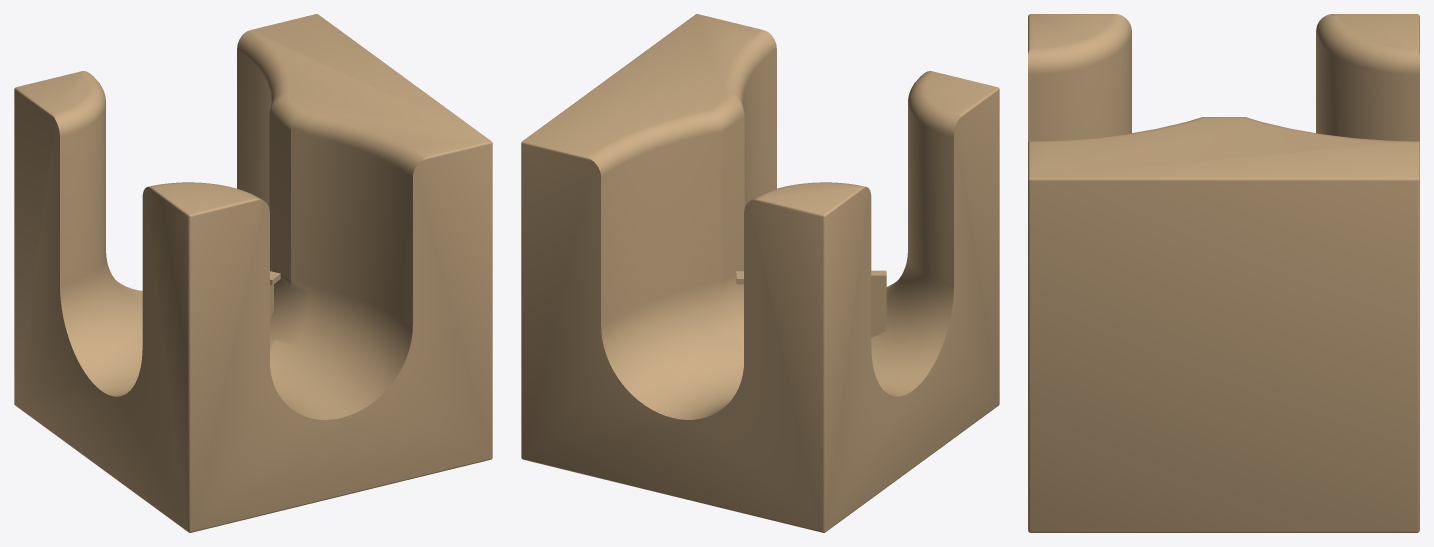
The model's file is mech_splitter_l1.glb.
The picture shows the model from 3 angles, left to right: view 1: azimuth 30°, elevation 25°; view 2: azimuth 150°, elevation 25°; view 3: azimuth 270°, elevation 25°; orthographic projection. The views are drawn at different scales.
Parts seen in each view (by area): view 1: mech_splitter_l1_lod0; view 2: mech_splitter_l1_lod0, anim_flap_lod0; view 3: mech_splitter_l1_lod0.
Boxes of the visible parts, x1=… form: mech_splitter_l1_lod0: x1=14, y1=14, x2=492, y2=532; mech_splitter_l1_lod0: x1=521, y1=14, x2=999, y2=532; anim_flap_lod0: x1=736, y1=270, x2=886, y2=337; mech_splitter_l1_lod0: x1=1028, y1=14, x2=1419, y2=532.
Size of what is drawn, in the model's own units: 0.0596 by 0.0596 by 0.0596.
